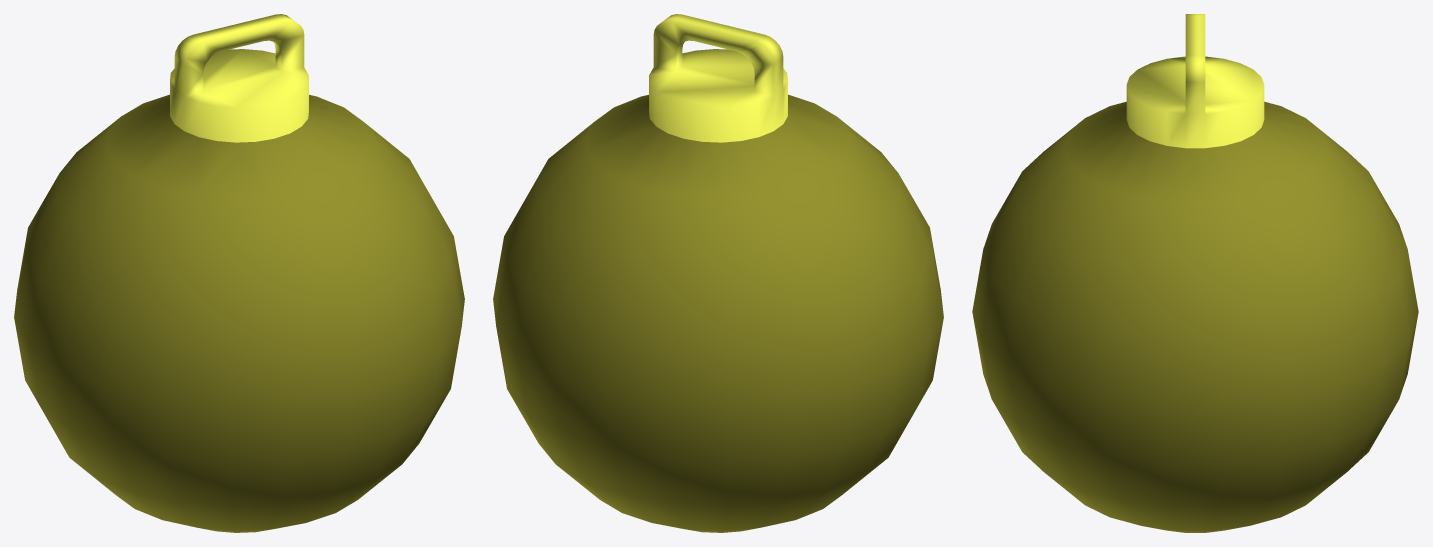
The picture shows the model from 3 angles, left to right: view 1: azimuth 30°, elevation 25°; view 2: azimuth 150°, elevation 25°; view 3: azimuth 270°, elevation 25°; orthographic projection.
Parts seen in each view (by area): view 1: Sphere.003; view 2: Sphere.003; view 3: Sphere.003.
Boxes of the visible parts, x1,y1,x2,y2 form: Sphere.003: [14, 14, 464, 532]; Sphere.003: [493, 14, 943, 532]; Sphere.003: [972, 14, 1418, 532].
Bounding box in the file's own units: 2515 × 3005 × 2542.
